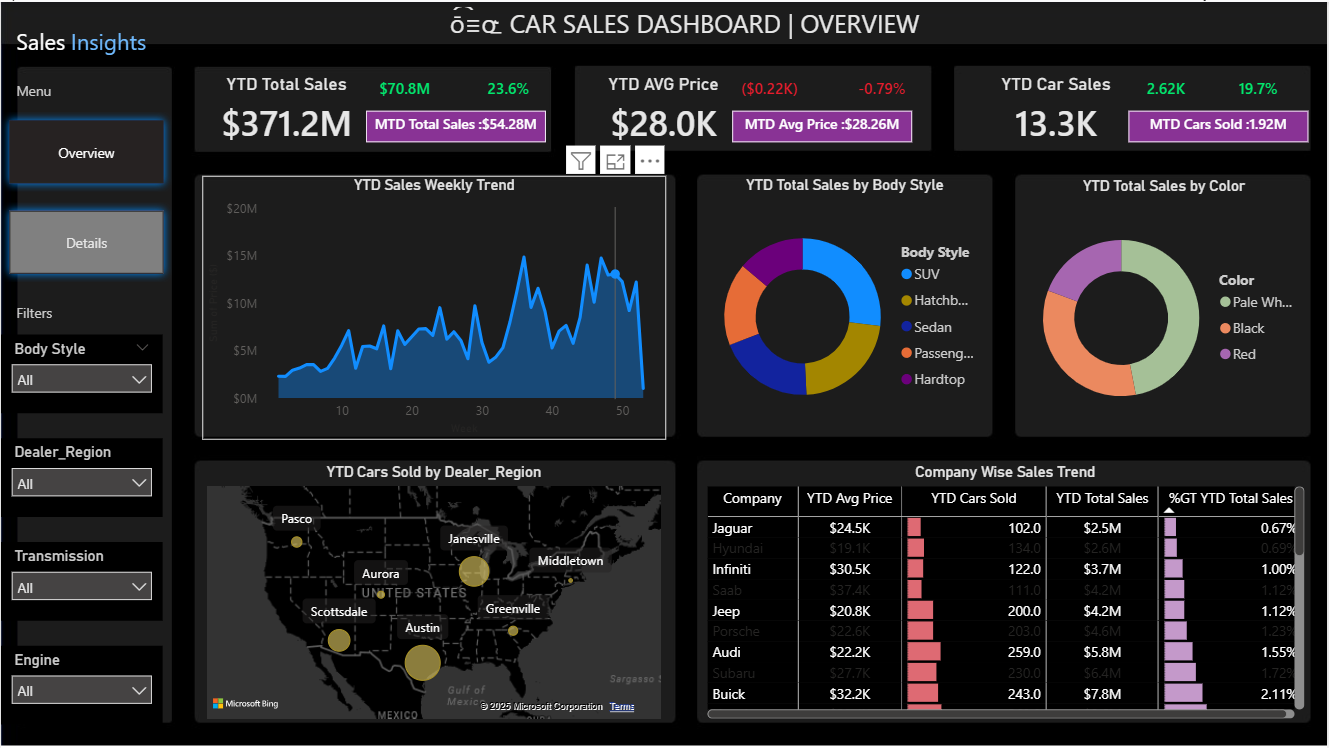

The dashboard page shown, as its layout file describes it:
{"tool":"powerbi","page":{"name":"Overview","canvas":[1280,720],"ordinal":0},"visuals":[{"type":"card","title":"YTD Total Sales","fields":{"Values":["car_data.YTD Total Sales"]},"box":[192.1,68.6,167.4,75.5],"z":0},{"type":"card","title":"Sales Difference","fields":{"Values":["car_data.Sales Difference"]},"box":[354,65.9,72.7,38.4],"z":1000},{"type":"card","title":"Sales Difference","fields":{"Values":["car_data.YOY SALES Growth"]},"box":[454.2,65.9,72.7,38.4],"z":2000},{"type":"card","fields":{"Values":["car_data.MTD KPI"]},"box":[352.3,105,173.7,30.2],"z":3000},{"type":"card","title":"YTD AVG Price","fields":{"Values":["car_data.YTD Avg Price"]},"box":[556.2,68.8,166.5,76],"z":4000},{"type":"card","title":"Sales Difference","fields":{"Values":["car_data.Avg Price Diff"]},"box":[705.8,66.4,72.4,38.6],"z":5000},{"type":"card","title":"Sales Difference","fields":{"Values":["car_data.YOY Avg Price Growth"]},"box":[814.3,66.4,72.4,38.6],"z":6000},{"type":"card","fields":{"Values":["car_data.MTD Avg Price KPI"]},"box":[705.8,105,173.7,30.2],"z":7000},{"type":"card","title":"YTD Car Sales","fields":{"Values":["car_data.YTD Cars Sold"]},"box":[935,68.8,166.5,76],"z":8000},{"type":"card","title":"Sales Difference","fields":{"Values":["car_data.Cars Sold Diff"]},"box":[1088.2,66.4,72.4,38.6],"z":9000},{"type":"card","title":"Sales Difference","fields":{"Values":["car_data.YOY Cars Sold Growth"]},"box":[1177.5,66.4,72.4,38.6],"z":10000},{"type":"card","fields":{"Values":["car_data.MTD Cars Sold KPI"]},"box":[1088.2,105,173.7,30.2],"z":11000},{"type":"areaChart","title":"YTD Sales Weekly Trend","fields":{"Category":["Calender Table.Week"],"Y":["Sum(car_data.Price ($))"]},"box":[194.2,167.7,447.6,254.6],"z":12000},{"type":"donutChart","fields":{"Category":["car_data.Body Style"],"Y":["car_data.YTD Total Sales"]},"box":[674.4,167.7,279.9,254.6],"z":13000},{"type":"donutChart","fields":{"Category":["car_data.Color","car_data.Body Style"],"Y":["car_data.YTD Total Sales"]},"box":[981.6,168.4,280.6,255.1],"z":14000},{"type":"map","fields":{"Category":["car_data.Dealer_Region"],"Size":["car_data.YTD Cars Sold"]},"box":[194.3,445.7,447.1,251.4],"z":15000},{"type":"tableEx","title":"Company Wise Sales Trend","fields":{"Values":["car_data.Company","car_data.YTD Avg Price","car_data.YTD Cars Sold","car_data.YTD Total Sales","Divide(car_data.YTD Total Sales, ScopedEval(car_data.YTD Total Sales, []))"]},"box":[675.7,445.7,587.1,251.4],"z":16000},{"type":"textbox","box":[428.6,0,490,45.7],"z":17000},{"type":"slicer","fields":{"Values":["car_data.Body Style"]},"box":[0,321.4,155.7,75.7],"z":18000},{"type":"slicer","fields":{"Values":["car_data.Dealer_Region"]},"box":[0,421.4,155.7,75.7],"z":19000},{"type":"slicer","fields":{"Values":["car_data.Transmission"]},"box":[0,521.4,155.7,75.7],"z":20000},{"type":"slicer","fields":{"Values":["car_data.Engine"]},"box":[0,621.4,155.7,75.7],"z":21000},{"type":"textbox","box":[10,285.7,117.1,35.7],"z":22000},{"type":"textbox","box":[10,18.6,150,47.1],"z":23000},{"type":"pageNavigator","box":[0,105.7,165.7,165.7],"z":23001},{"type":"textbox","box":[10,71.4,117.1,35.7],"z":23002}]}

Visuals, with their boxes on the page's 1280x720 design canvas (x1, y1, x2, y2). These are canvas units, not pixel positions in the 1329x748 screenshot, which may show the page scaled, cropped or inside an application window:
"YTD Total Sales" card: {"left": 192, "top": 69, "right": 360, "bottom": 144}
"Sales Difference" card: {"left": 354, "top": 66, "right": 427, "bottom": 104}
"Sales Difference" card: {"left": 454, "top": 66, "right": 527, "bottom": 104}
card - car_data.MTD KPI: {"left": 352, "top": 105, "right": 526, "bottom": 135}
"YTD AVG Price" card: {"left": 556, "top": 69, "right": 723, "bottom": 145}
"Sales Difference" card: {"left": 706, "top": 66, "right": 778, "bottom": 105}
"Sales Difference" card: {"left": 814, "top": 66, "right": 887, "bottom": 105}
card - car_data.MTD Avg Price KPI: {"left": 706, "top": 105, "right": 880, "bottom": 135}
"YTD Car Sales" card: {"left": 935, "top": 69, "right": 1102, "bottom": 145}
"Sales Difference" card: {"left": 1088, "top": 66, "right": 1161, "bottom": 105}
"Sales Difference" card: {"left": 1178, "top": 66, "right": 1250, "bottom": 105}
card - car_data.MTD Cars Sold KPI: {"left": 1088, "top": 105, "right": 1262, "bottom": 135}
"YTD Sales Weekly Trend" areaChart: {"left": 194, "top": 168, "right": 642, "bottom": 422}
donutChart - car_data.Body Style x car_data.YTD Total Sales: {"left": 674, "top": 168, "right": 954, "bottom": 422}
donutChart - car_data.Color x car_data.Body Style: {"left": 982, "top": 168, "right": 1262, "bottom": 424}
map - car_data.Dealer_Region x car_data.YTD Cars Sold: {"left": 194, "top": 446, "right": 641, "bottom": 697}
"Company Wise Sales Trend" tableEx: {"left": 676, "top": 446, "right": 1263, "bottom": 697}
textbox: {"left": 429, "top": 0, "right": 919, "bottom": 46}
slicer - car_data.Body Style: {"left": 0, "top": 321, "right": 156, "bottom": 397}
slicer - car_data.Dealer_Region: {"left": 0, "top": 421, "right": 156, "bottom": 497}
slicer - car_data.Transmission: {"left": 0, "top": 521, "right": 156, "bottom": 597}
slicer - car_data.Engine: {"left": 0, "top": 621, "right": 156, "bottom": 697}
textbox: {"left": 10, "top": 286, "right": 127, "bottom": 321}
textbox: {"left": 10, "top": 19, "right": 160, "bottom": 66}
pageNavigator: {"left": 0, "top": 106, "right": 166, "bottom": 271}
textbox: {"left": 10, "top": 71, "right": 127, "bottom": 107}
